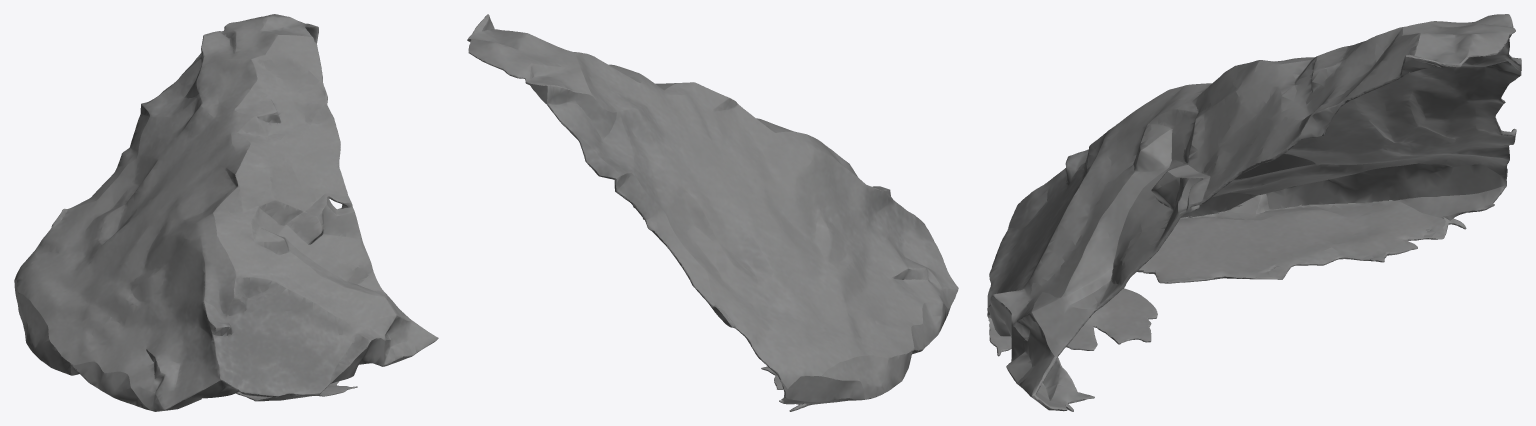
3 renders of one model, left to right at view 1: azimuth 30°, elevation 25°; view 2: azimuth 150°, elevation 25°; view 3: azimuth 270°, elevation 25°, orthographic. The views are drawn at different scales.
Visible parts, largest first — view 1: world; view 2: world; view 3: world.
Part boxes in pixels (left/top/right/bottom): world: left=14, top=14, right=438, bottom=411; world: left=467, top=14, right=958, bottom=411; world: left=987, top=14, right=1521, bottom=411.
Size of the model in its own units: 0.32 by 0.2499 by 0.3202.
1 material, 1 textured.
